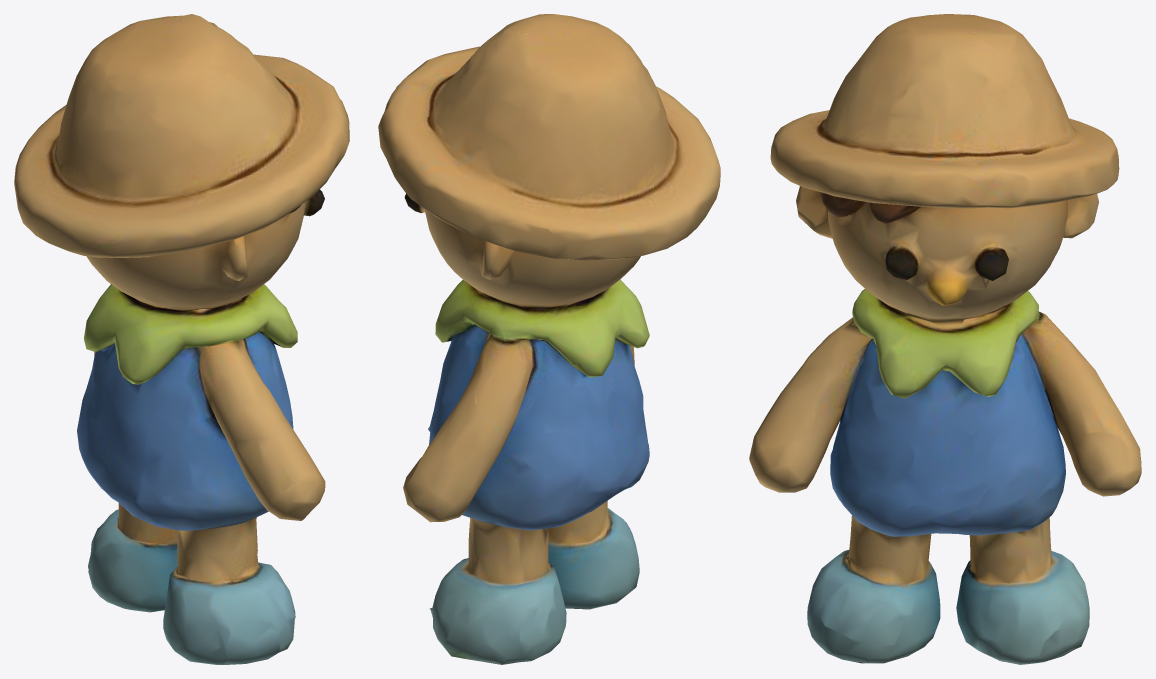
Rendered from man.glb.
3 renders of one model, left to right at view 1: azimuth 30°, elevation 25°; view 2: azimuth 150°, elevation 25°; view 3: azimuth 270°, elevation 25°, orthographic. The views are drawn at different scales.
Visible parts, largest first — view 1: tripo_node_98bdd24d-07aa-4b55-97e2-f3691c889141; view 2: tripo_node_98bdd24d-07aa-4b55-97e2-f3691c889141; view 3: tripo_node_98bdd24d-07aa-4b55-97e2-f3691c889141.
Boxes of the visible parts, bbox=[...] form: tripo_node_98bdd24d-07aa-4b55-97e2-f3691c889141: bbox=[14, 14, 349, 664]; tripo_node_98bdd24d-07aa-4b55-97e2-f3691c889141: bbox=[378, 14, 720, 664]; tripo_node_98bdd24d-07aa-4b55-97e2-f3691c889141: bbox=[749, 14, 1141, 664].
Bounding box in the file's own units: 0.5122 × 1 × 0.5839.
Materials: 1 (1 with a texture image).
